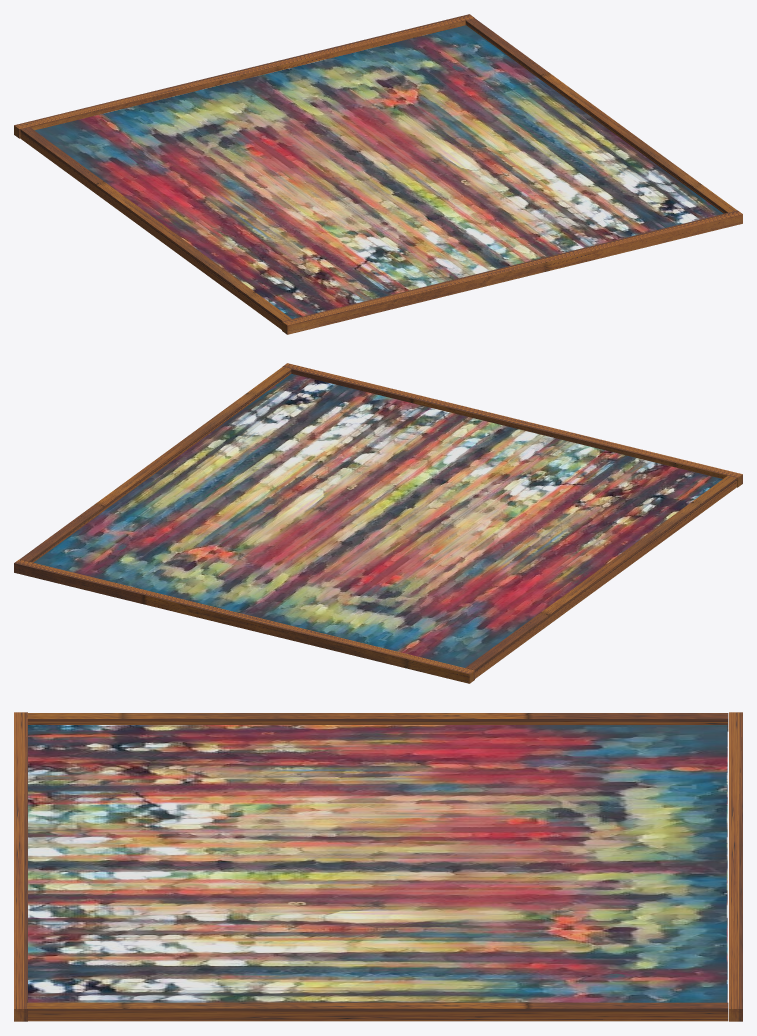
Rendered from painting_forest.glb.
The picture shows the model from 3 angles, top to bottom: view 1: azimuth 30°, elevation 25°; view 2: azimuth 150°, elevation 25°; view 3: azimuth 270°, elevation 25°; orthographic projection. The views are drawn at different scales.
Parts seen in each view (by area): view 1: Cube; view 2: Cube; view 3: Cube.
Boxes of the visible parts, box(x1,y1,x2,y2) form: Cube: box(14, 14, 742, 334); Cube: box(14, 363, 742, 683); Cube: box(14, 712, 742, 1021).
Size of the model in its own units: 10 by 0.2 by 10.39.
3 materials, 2 textured.
